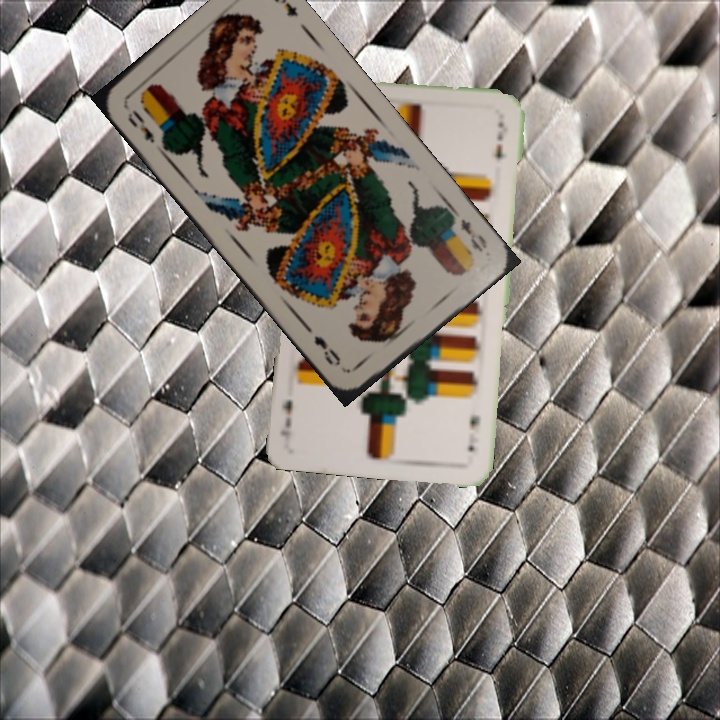E7: (463, 411, 483, 455)
EO: (123, 105, 158, 146), (456, 214, 490, 255)
